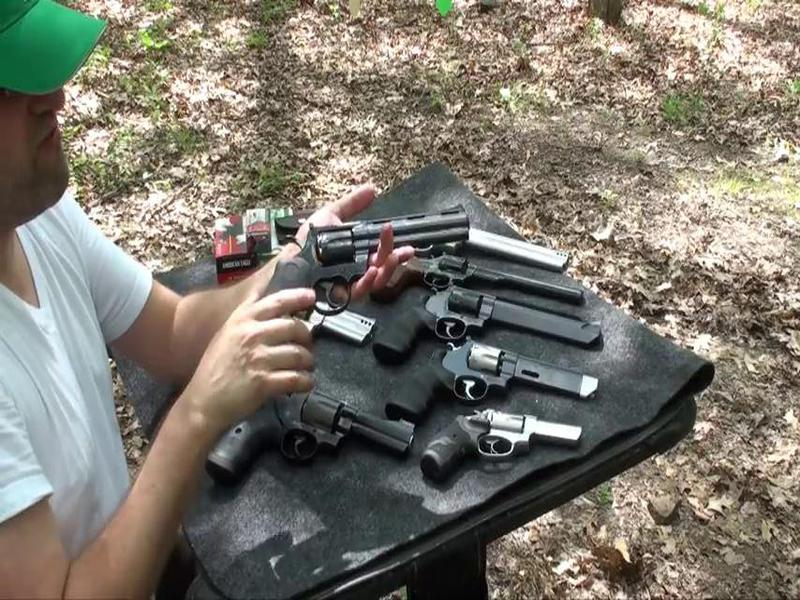Revolver: (273, 200, 466, 312)
